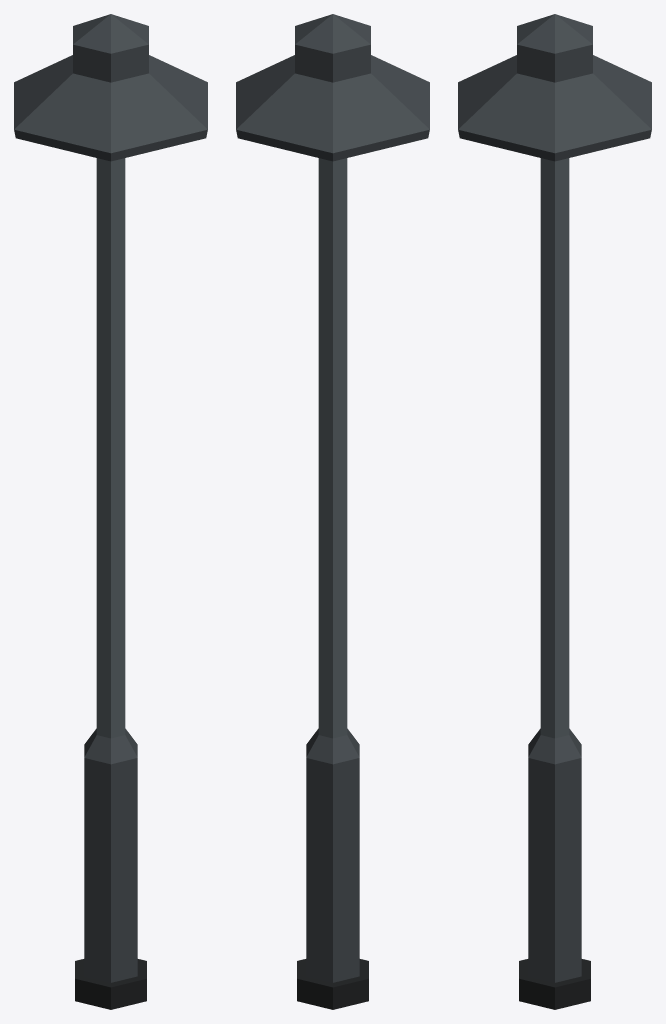
Rendered from Streetlamp_1.gltf.
3 views of the same model, side by side, from view 1: azimuth 30°, elevation 25°; view 2: azimuth 150°, elevation 25°; view 3: azimuth 270°, elevation 25° (orthographic).
Visible parts, largest first — view 1: Streetlamp_01; view 2: Streetlamp_01; view 3: Streetlamp_01.
Boxes of the visible parts, x1,y1,x2,y2 form: Streetlamp_01: (14,14,207,1009); Streetlamp_01: (236,14,429,1009); Streetlamp_01: (458,14,651,1009).
Size of the model in its own units: 0.1493 by 0.7194 by 0.1293.
1 material, 1 textured.
